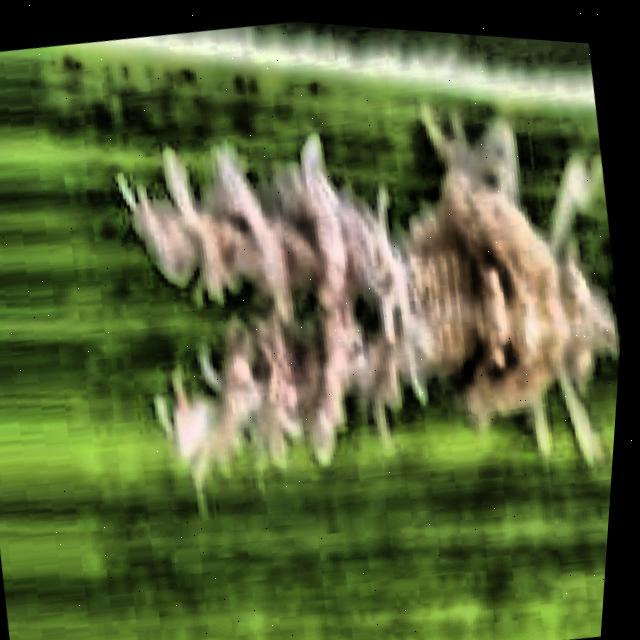Pyrilla-perpusilla: (0, 9, 640, 640)
